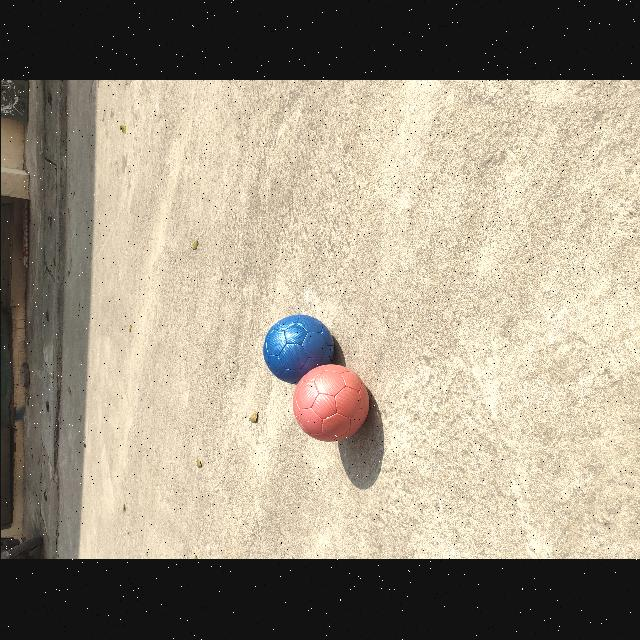B: (262, 315, 333, 386)
R: (292, 365, 368, 442)
